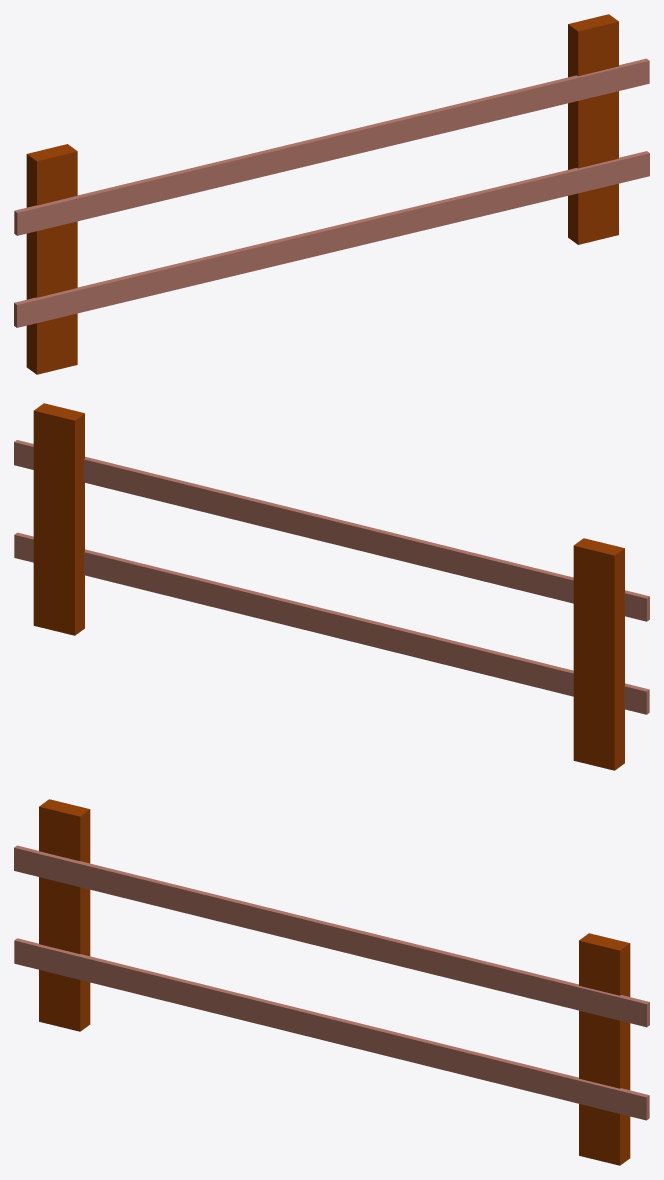
File: fence.fbx
3 renders of one model, top to bottom at view 1: azimuth 30°, elevation 25°; view 2: azimuth 150°, elevation 25°; view 3: azimuth 330°, elevation 25°, orthographic.
Parts seen in each view (by area): view 1: pCube4, pCube3, pCube1, pCube2; view 2: pCube3, pCube4, pCube1, pCube2; view 3: pCube4, pCube3, pCube2, pCube1.
Part boxes in pixels (box(x1,y1,x2,y2)): pCube4: box(14, 151, 649, 327); pCube3: box(14, 58, 649, 235); pCube1: box(26, 144, 77, 374); pCube2: box(568, 14, 618, 244); pCube3: box(14, 440, 649, 621); pCube4: box(14, 532, 649, 714); pCube1: box(573, 538, 624, 770); pCube2: box(33, 403, 84, 635); pCube4: box(14, 938, 649, 1120); pCube3: box(14, 845, 649, 1027); pCube2: box(579, 933, 630, 1165); pCube1: box(39, 799, 90, 1031).
Bounding box in the file's own units: 3.68 × 1.19 × 0.1539.
